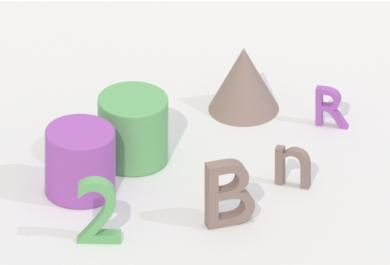0-KhoiTru: (93, 77, 177, 180), (40, 109, 119, 211)
0-TamGiac: (202, 43, 282, 130)
2: (73, 172, 127, 250)
B: (200, 154, 257, 233)
R: (313, 81, 350, 135)
n: (272, 141, 315, 193)
